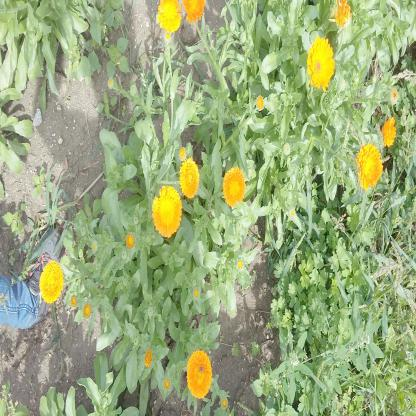marigold: (152, 186, 182, 235), (309, 38, 334, 92), (188, 350, 212, 398), (359, 144, 382, 187), (40, 262, 62, 302), (223, 168, 245, 208), (159, 0, 182, 32), (180, 162, 199, 198)
